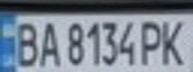1: (81, 18, 103, 66)
3: (100, 18, 121, 66)
4: (118, 17, 142, 66)
8: (63, 18, 84, 66)
A: (36, 18, 60, 69)
B: (9, 18, 42, 69)
K: (157, 16, 190, 68)
P: (136, 17, 169, 66)
